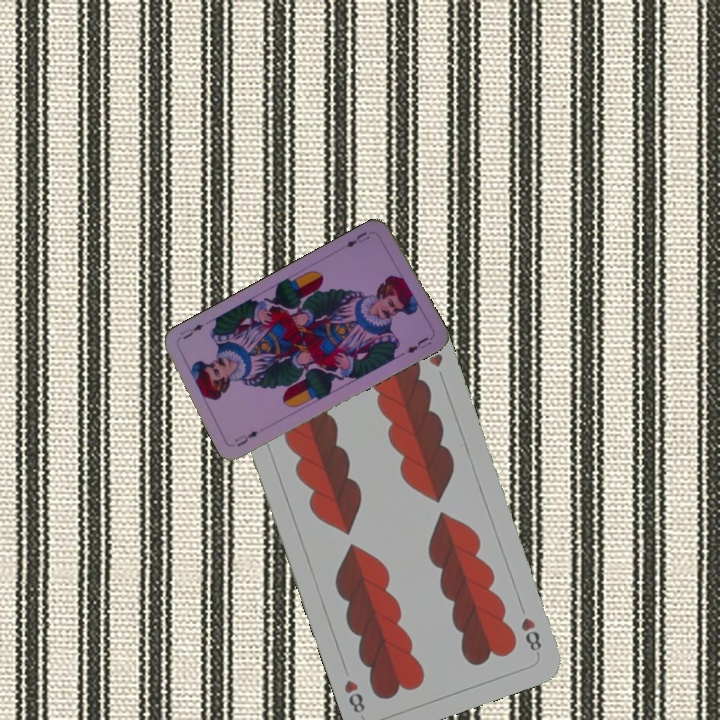EU: (342, 227, 372, 250), (231, 427, 261, 449)
H8: (517, 613, 544, 658)
